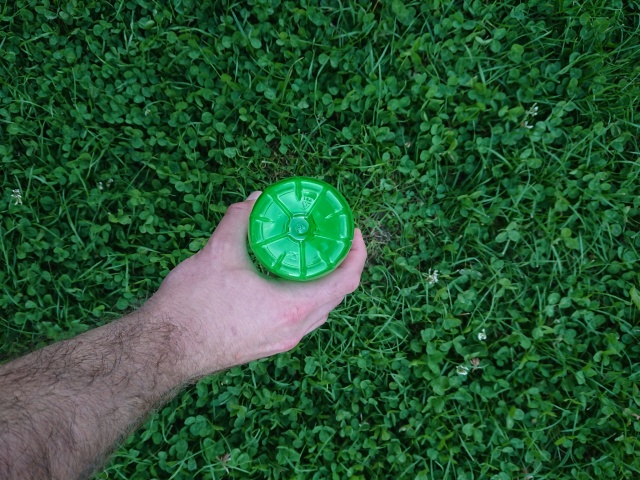Vindi Iso Sport Lemon-Grapefruit 500mL: (243, 172, 358, 285)
